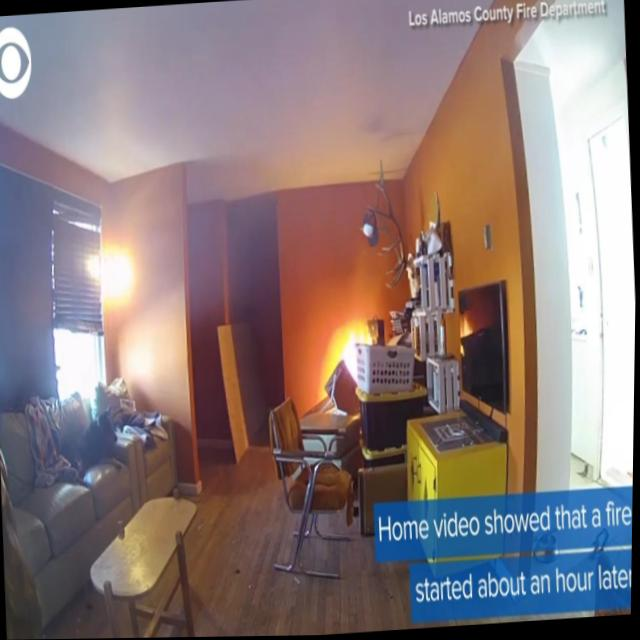fire: (332, 314, 381, 394)
